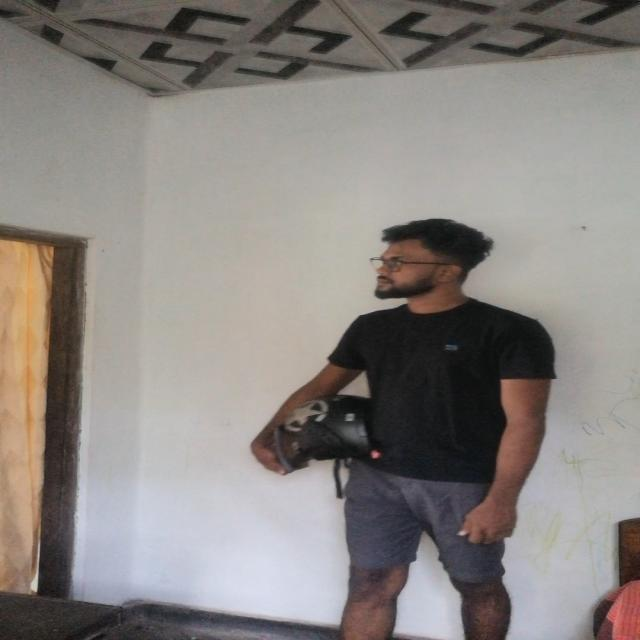Person: (262, 211, 578, 640)
